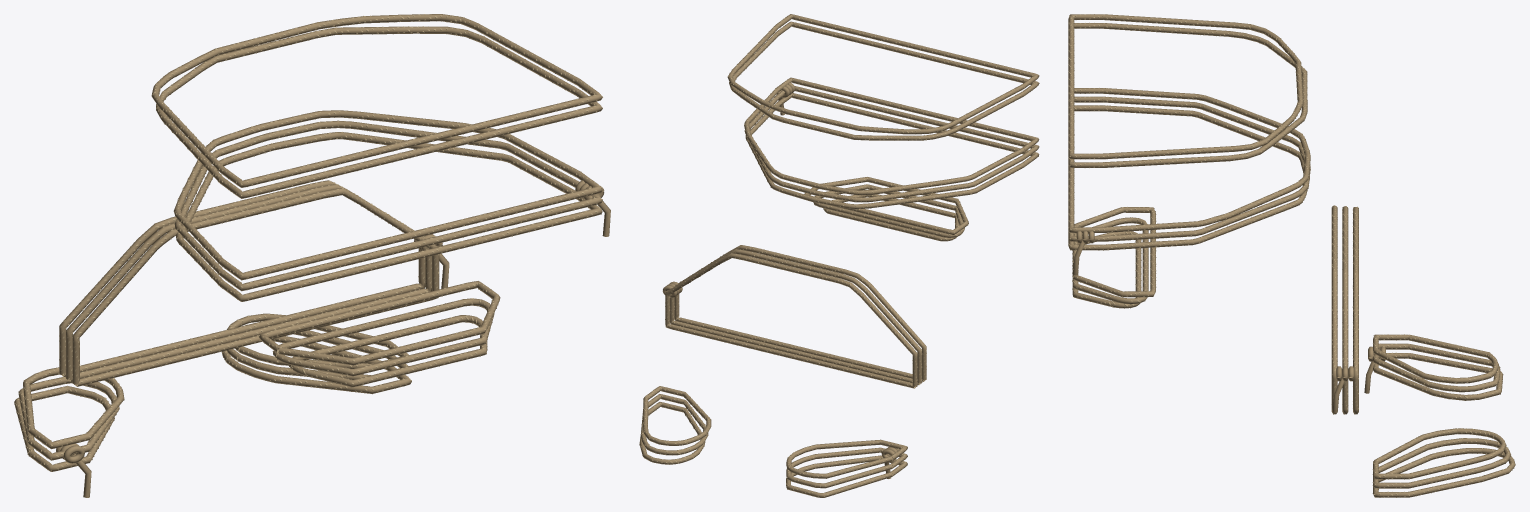
File: player_ropes_v08.glb
3 renders of one model, left to right at view 1: azimuth 30°, elevation 25°; view 2: azimuth 150°, elevation 25°; view 3: azimuth 270°, elevation 25°, orthographic. The views are drawn at different scales.
Visible parts, largest first — view 1: FrayedHemp, HempFibres; view 2: FrayedHemp, HempFibres; view 3: FrayedHemp, HempFibres.
Part boxes in pixels (x1,y1,x2,y2): FrayedHemp: [14, 14, 610, 497]; HempFibres: [14, 14, 602, 471]; FrayedHemp: [639, 14, 1039, 497]; HempFibres: [639, 15, 1039, 497]; FrayedHemp: [1068, 14, 1515, 497]; HempFibres: [1068, 14, 1515, 497].
Size of the model in its own units: 0.6898 by 0.8011 by 0.8858.
